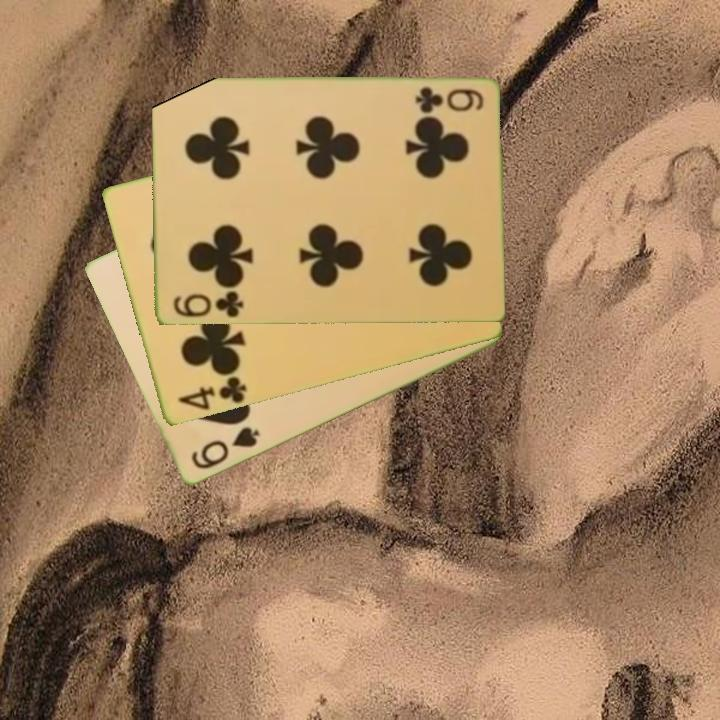4c: (174, 369, 250, 414)
6c: (170, 287, 246, 321), (411, 84, 486, 114)
6s: (187, 423, 263, 473)
